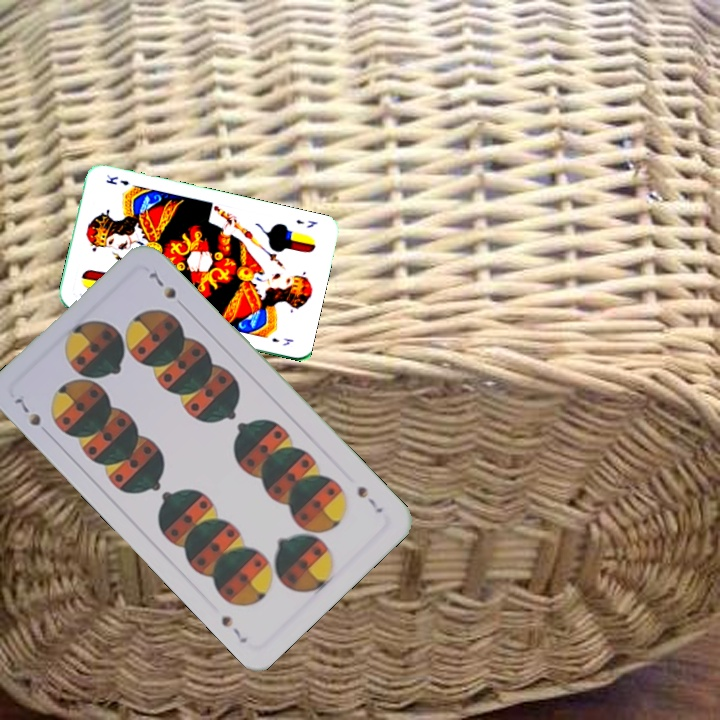EK: (292, 216, 320, 230)
S7: (10, 393, 44, 429), (352, 482, 386, 516)
